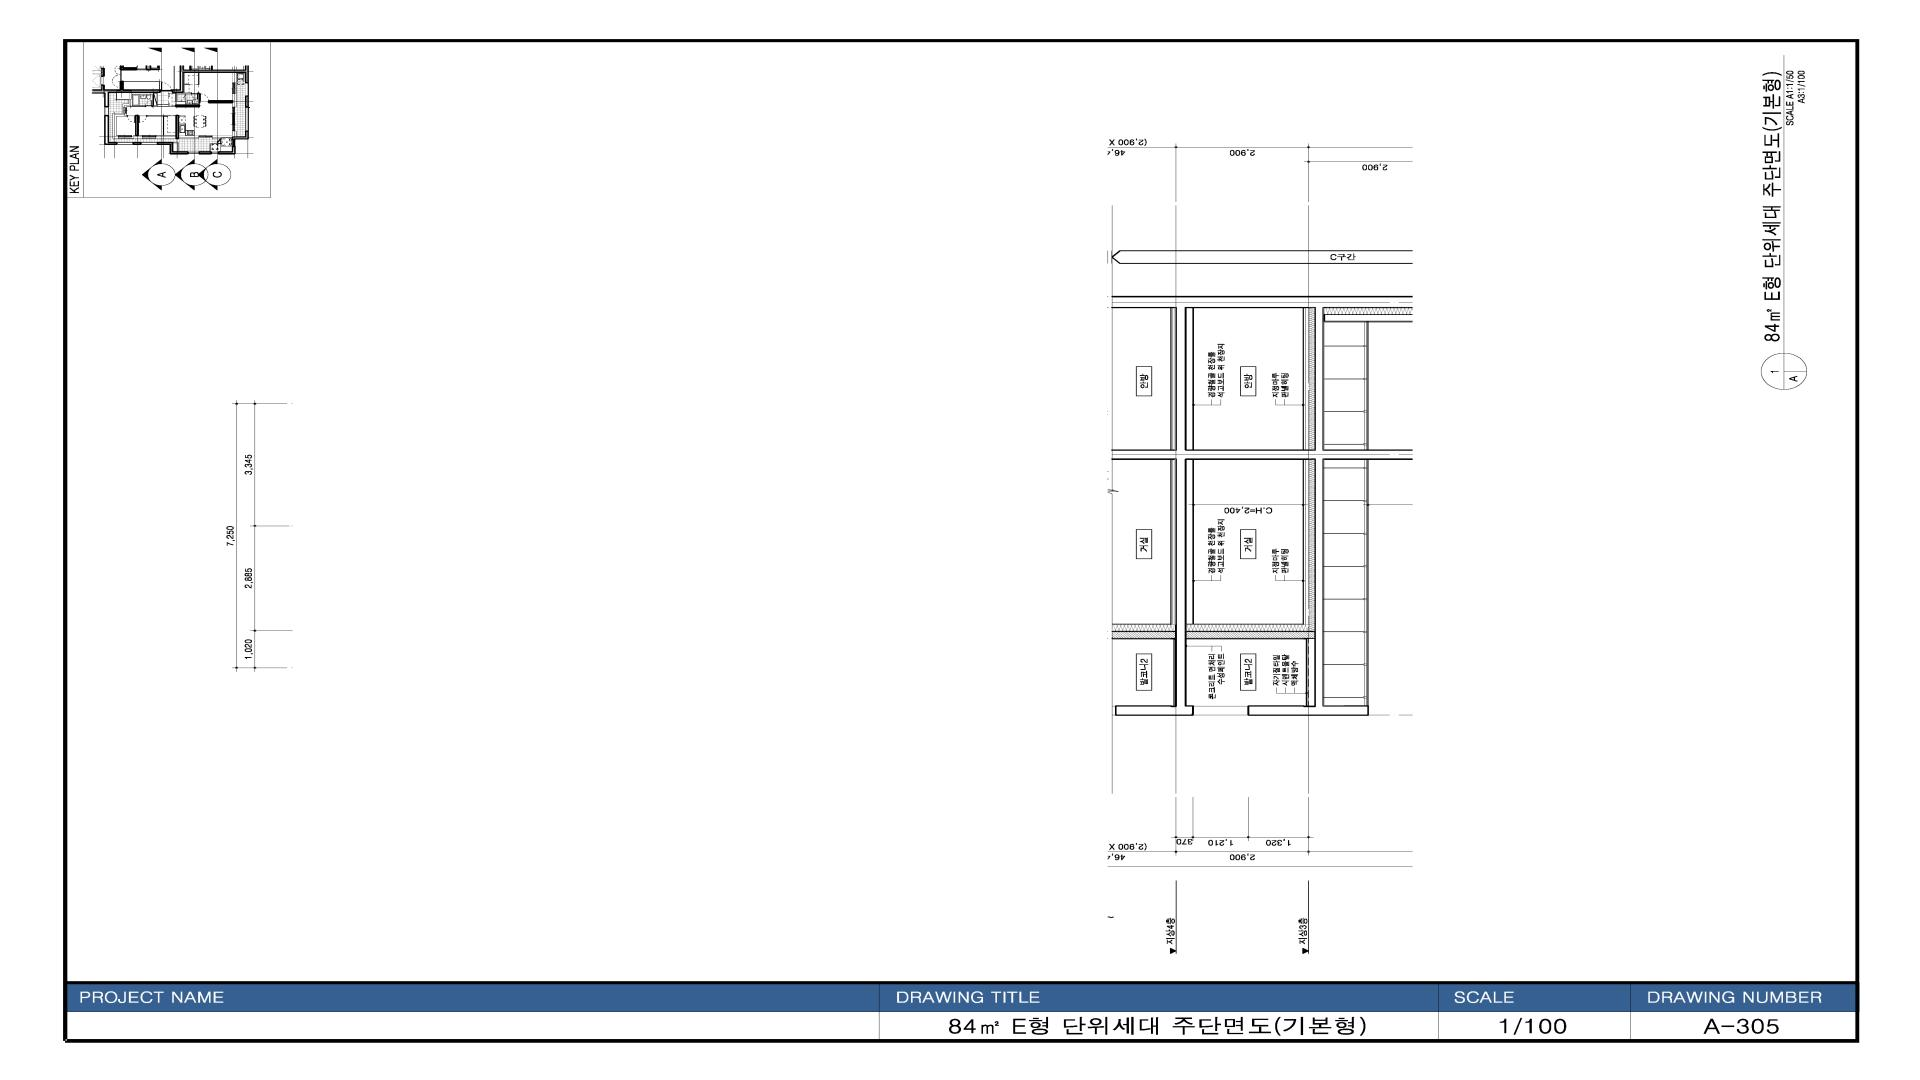wall: (1112, 295, 1324, 716), (1315, 309, 1324, 450), (1187, 630, 1315, 638)
window: (1193, 705, 1247, 716)
